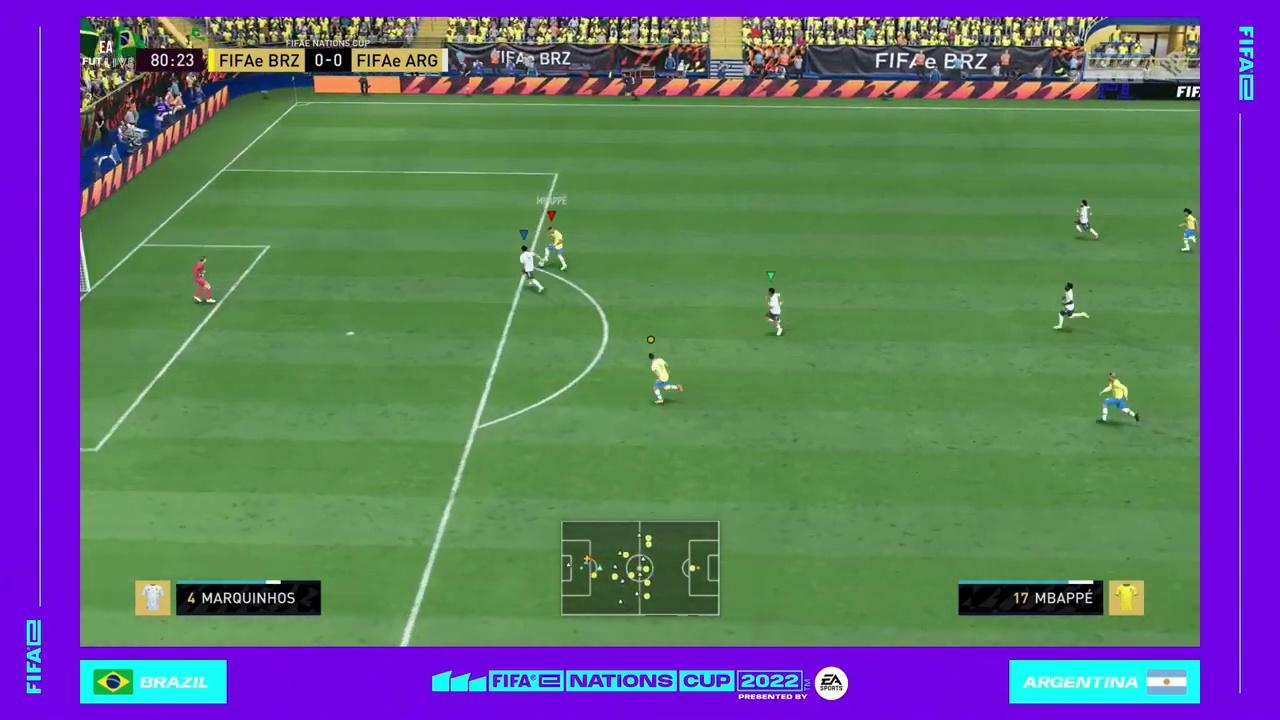scoreboard: (207, 45, 452, 74)
timestamp: (137, 49, 200, 72)
